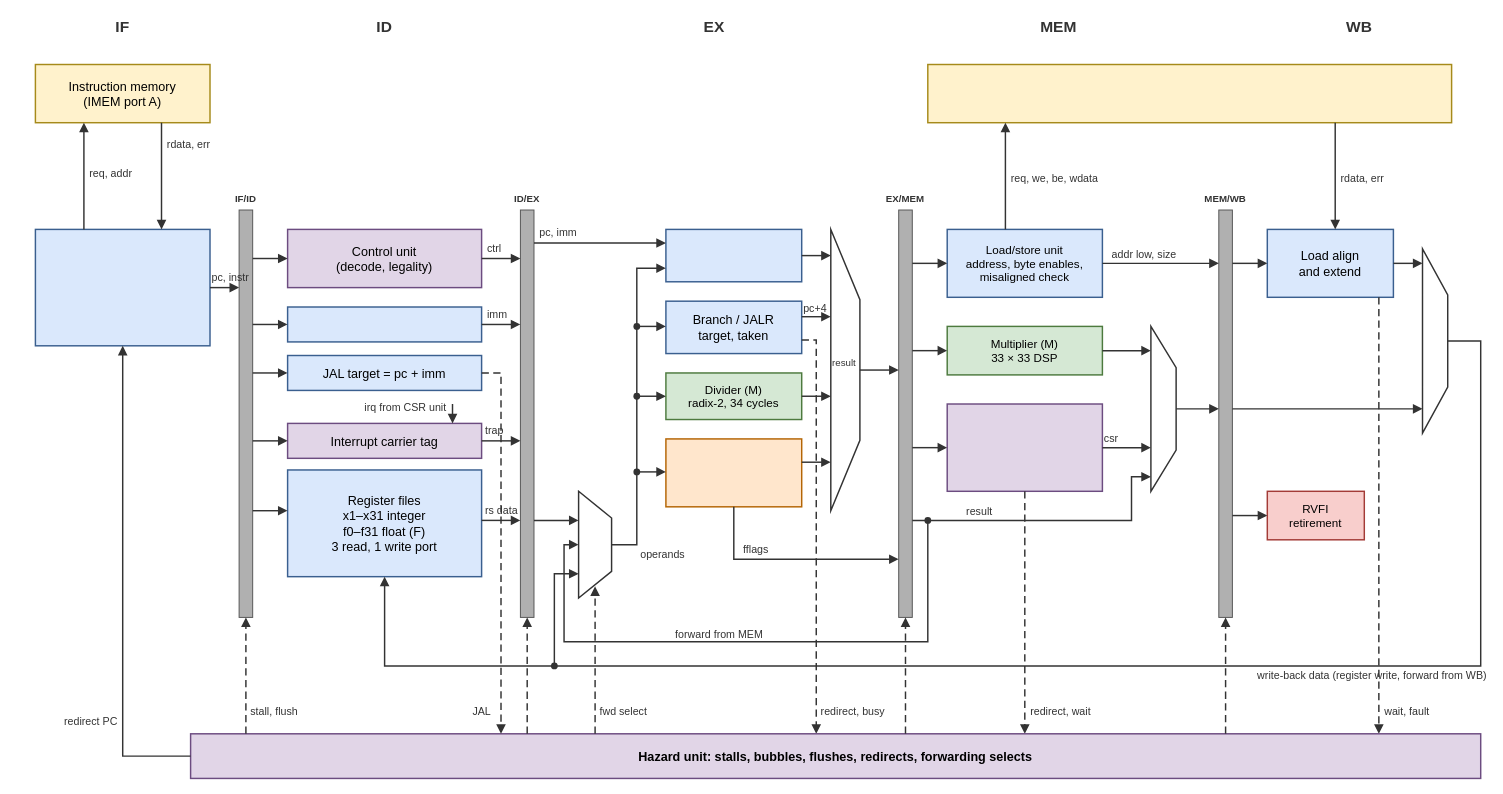
The diagram is 1503 pixels wide and 794 high, and some of its shapes have lost their labels. The centre of each missing label's shape, as x and y in pixels:
ALU: point 733,255
CSR unit CSRs, counters, traps, mret, interrupts: point 1024,447
Data port: data router → DMEM, IMEM port B, AXI4-Lite bus: point 1189,93
Fetch unit next PC request / grant 1-entry buffer: point 122,287
FPU (F) FMA, div/sqrt, convert, compare: point 733,472
fwd: point 594,544
Immediate decoder: point 384,324
